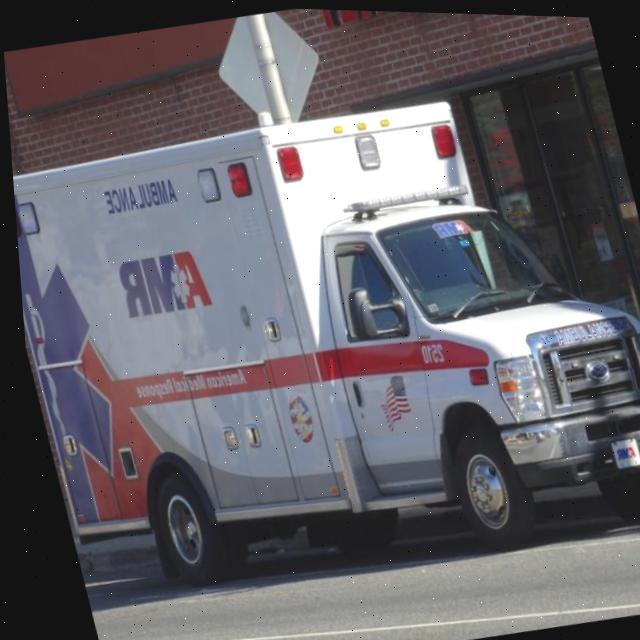emergency: (254, 65, 640, 574)
